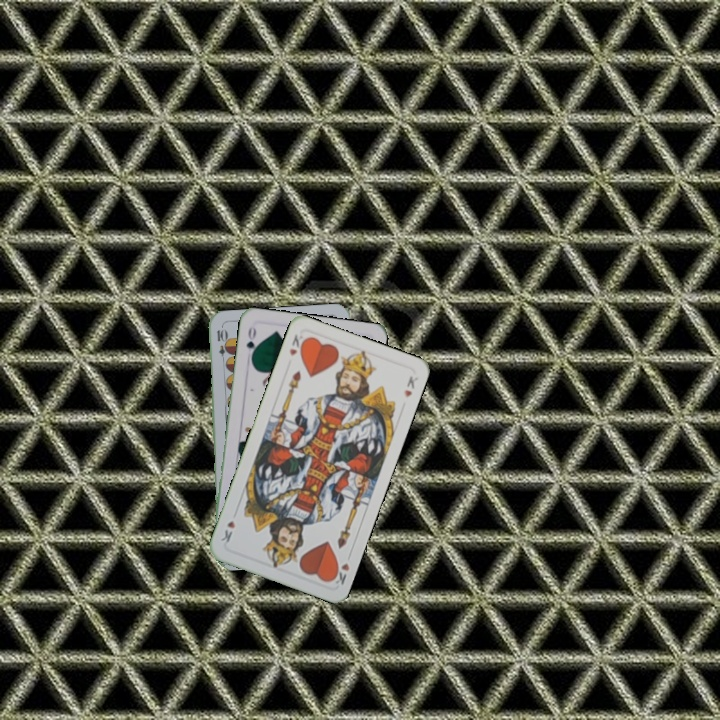E10: (213, 325, 229, 366)
GO: (242, 322, 260, 363)
HK: (327, 549, 354, 587), (285, 330, 309, 359)
